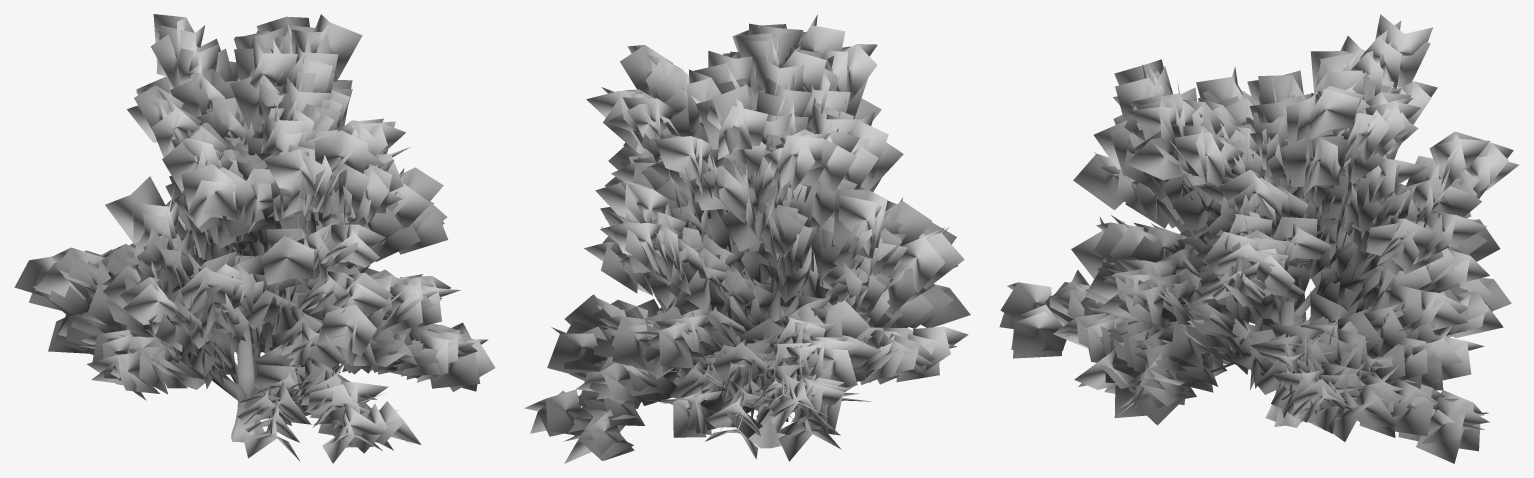
Rendered from SycamoreBritish_E.fbx.
3 views of the same model, side by side, from view 1: azimuth 30°, elevation 25°; view 2: azimuth 150°, elevation 25°; view 3: azimuth 270°, elevation 25° (orthographic). The views are drawn at different scales.
Parts seen in each view (by area): view 1: SycamoreBritish_E_LOD0; view 2: SycamoreBritish_E_LOD0; view 3: SycamoreBritish_E_LOD0.
Boxes of the visible parts, x1,y1,x2,y2 form: SycamoreBritish_E_LOD0: (14,14,495,463); SycamoreBritish_E_LOD0: (524,14,970,463); SycamoreBritish_E_LOD0: (999,14,1519,463).
Bounding box in the file's own units: 1862 × 1974 × 2361.
